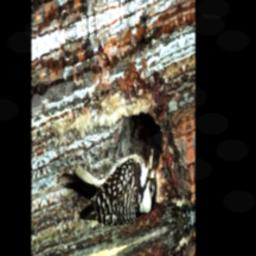Woodpecker: (61, 129, 160, 250)
